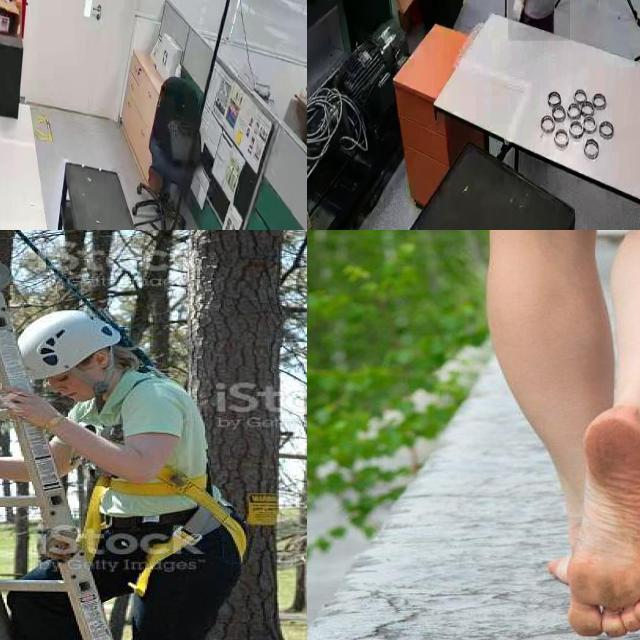Harness: (79, 467, 247, 596)
Sandals: (568, 391, 640, 639)
hand_glove: (513, 0, 530, 28)
